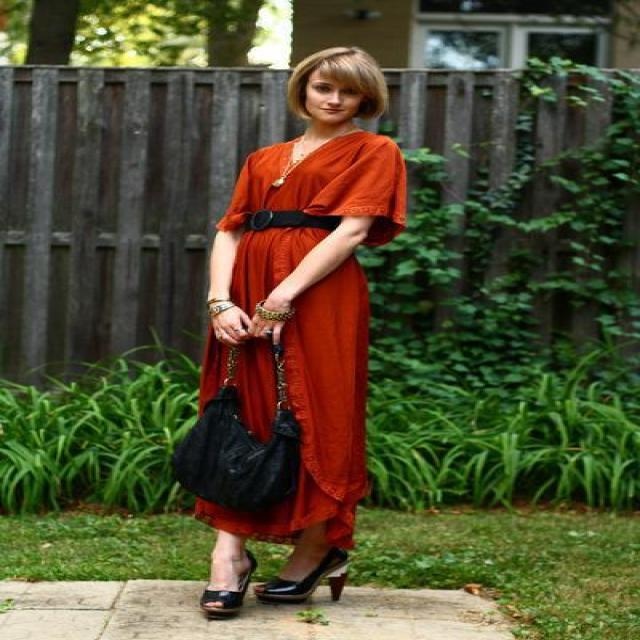bag: (173, 376, 302, 520)
dress: (192, 130, 405, 549)
shoe: (200, 544, 370, 621)
